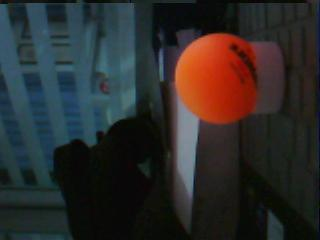oball: (176, 33, 256, 125)
